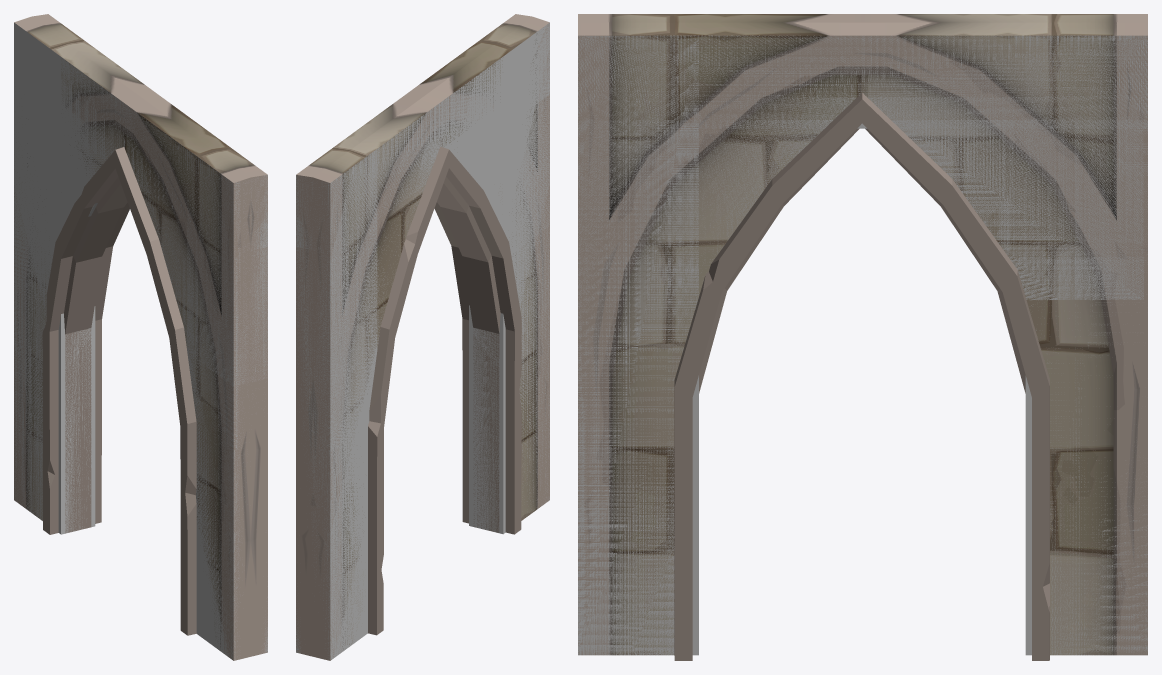
File: SM_Bld_Wall_Doorway_01.fbx
3 views of the same model, side by side, from view 1: azimuth 30°, elevation 25°; view 2: azimuth 150°, elevation 25°; view 3: azimuth 270°, elevation 25° (orthographic). The views are drawn at different scales.
Parts seen in each view (by area): view 1: SM_Bld_Wall_Doorway_01, SM_Bld_Wall_Doorway_01_ConvexHulls; view 2: SM_Bld_Wall_Doorway_01, SM_Bld_Wall_Doorway_01_ConvexHulls; view 3: SM_Bld_Wall_Doorway_01, SM_Bld_Wall_Doorway_01_ConvexHulls.
Part boxes in pixels (x1,y1,x2,y2): SM_Bld_Wall_Doorway_01: (14, 14, 267, 660); SM_Bld_Wall_Doorway_01_ConvexHulls: (14, 22, 267, 660); SM_Bld_Wall_Doorway_01: (296, 14, 549, 660); SM_Bld_Wall_Doorway_01_ConvexHulls: (296, 22, 549, 660); SM_Bld_Wall_Doorway_01: (578, 14, 1147, 660); SM_Bld_Wall_Doorway_01_ConvexHulls: (578, 35, 1147, 655).
Size of the model in its own units: 34.46 by 250 by 301.
Materials: 3 (2 with a texture image).
